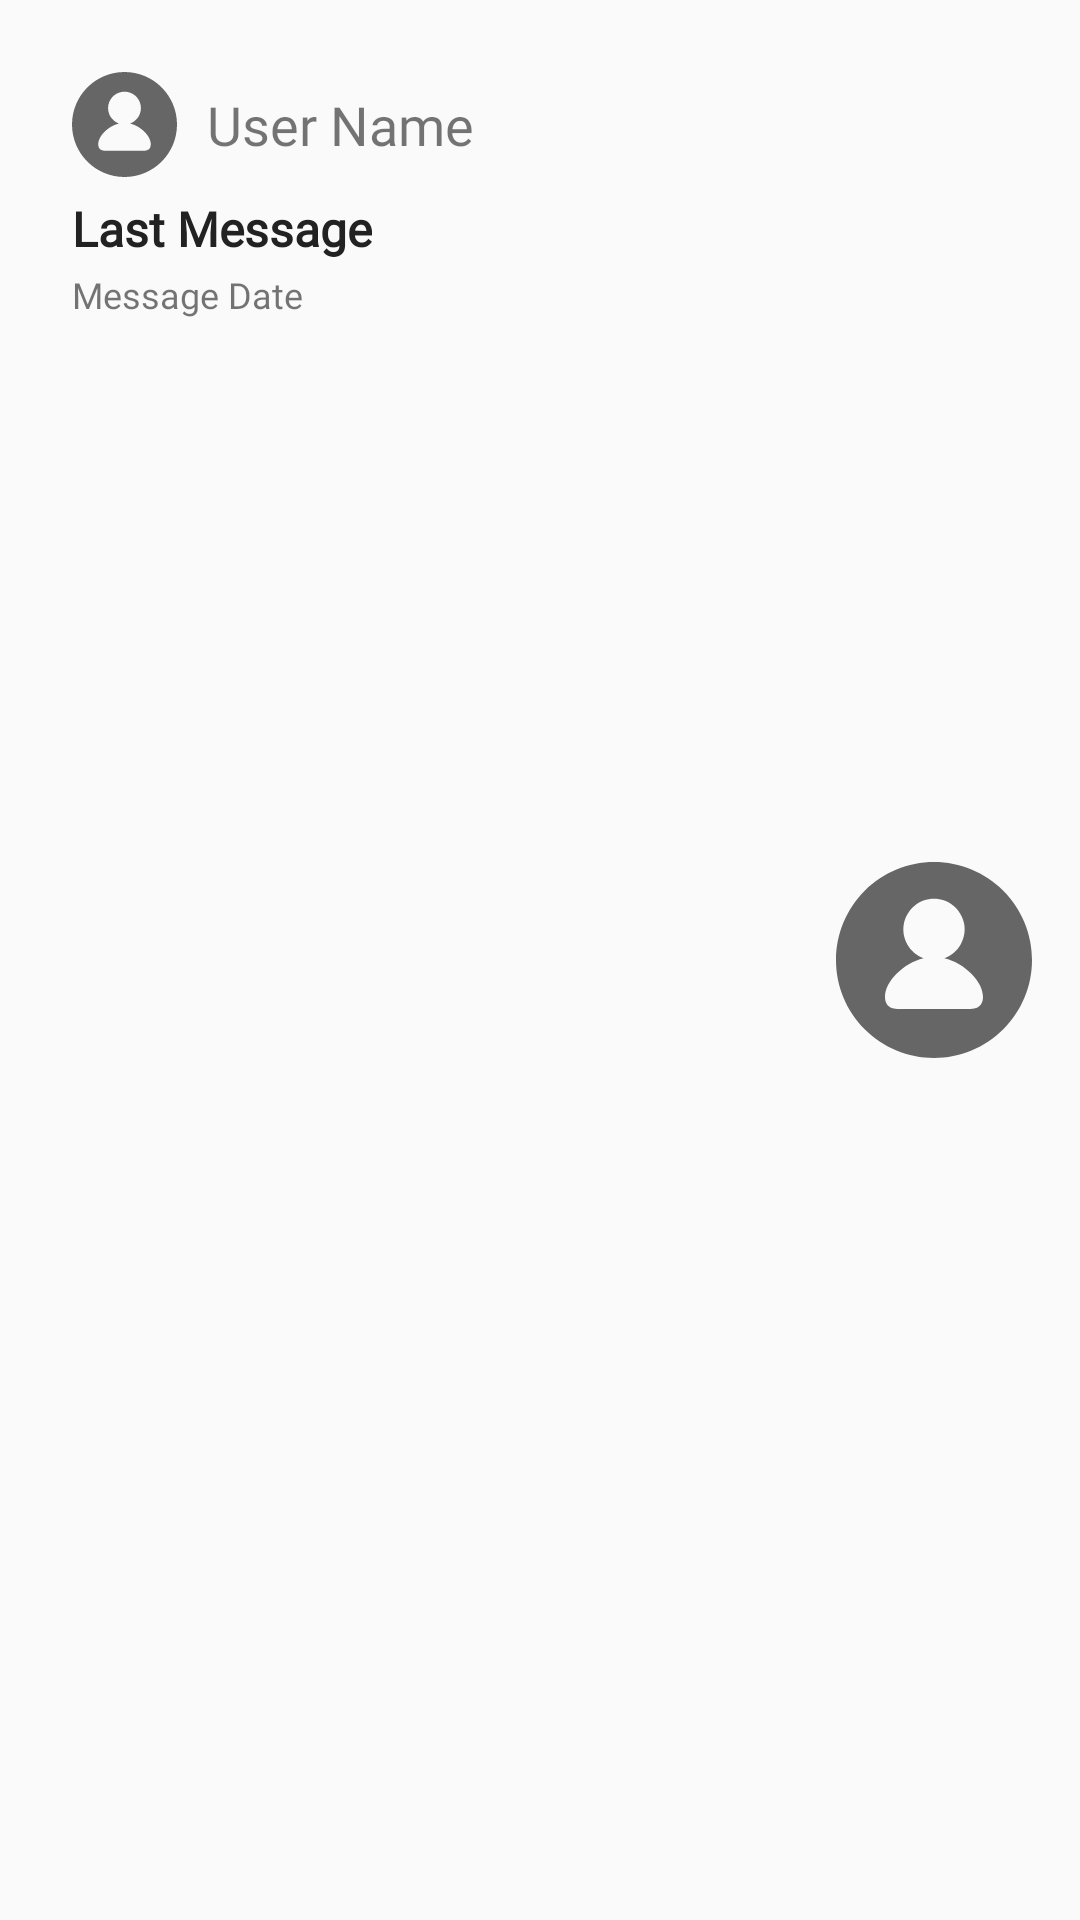

Named icons in this screenshot (1080*1920) and their bounding boxes, Rect(x1, y1, x2, y2):
profile: Rect(72, 72, 177, 177), Rect(836, 862, 1032, 1058)
